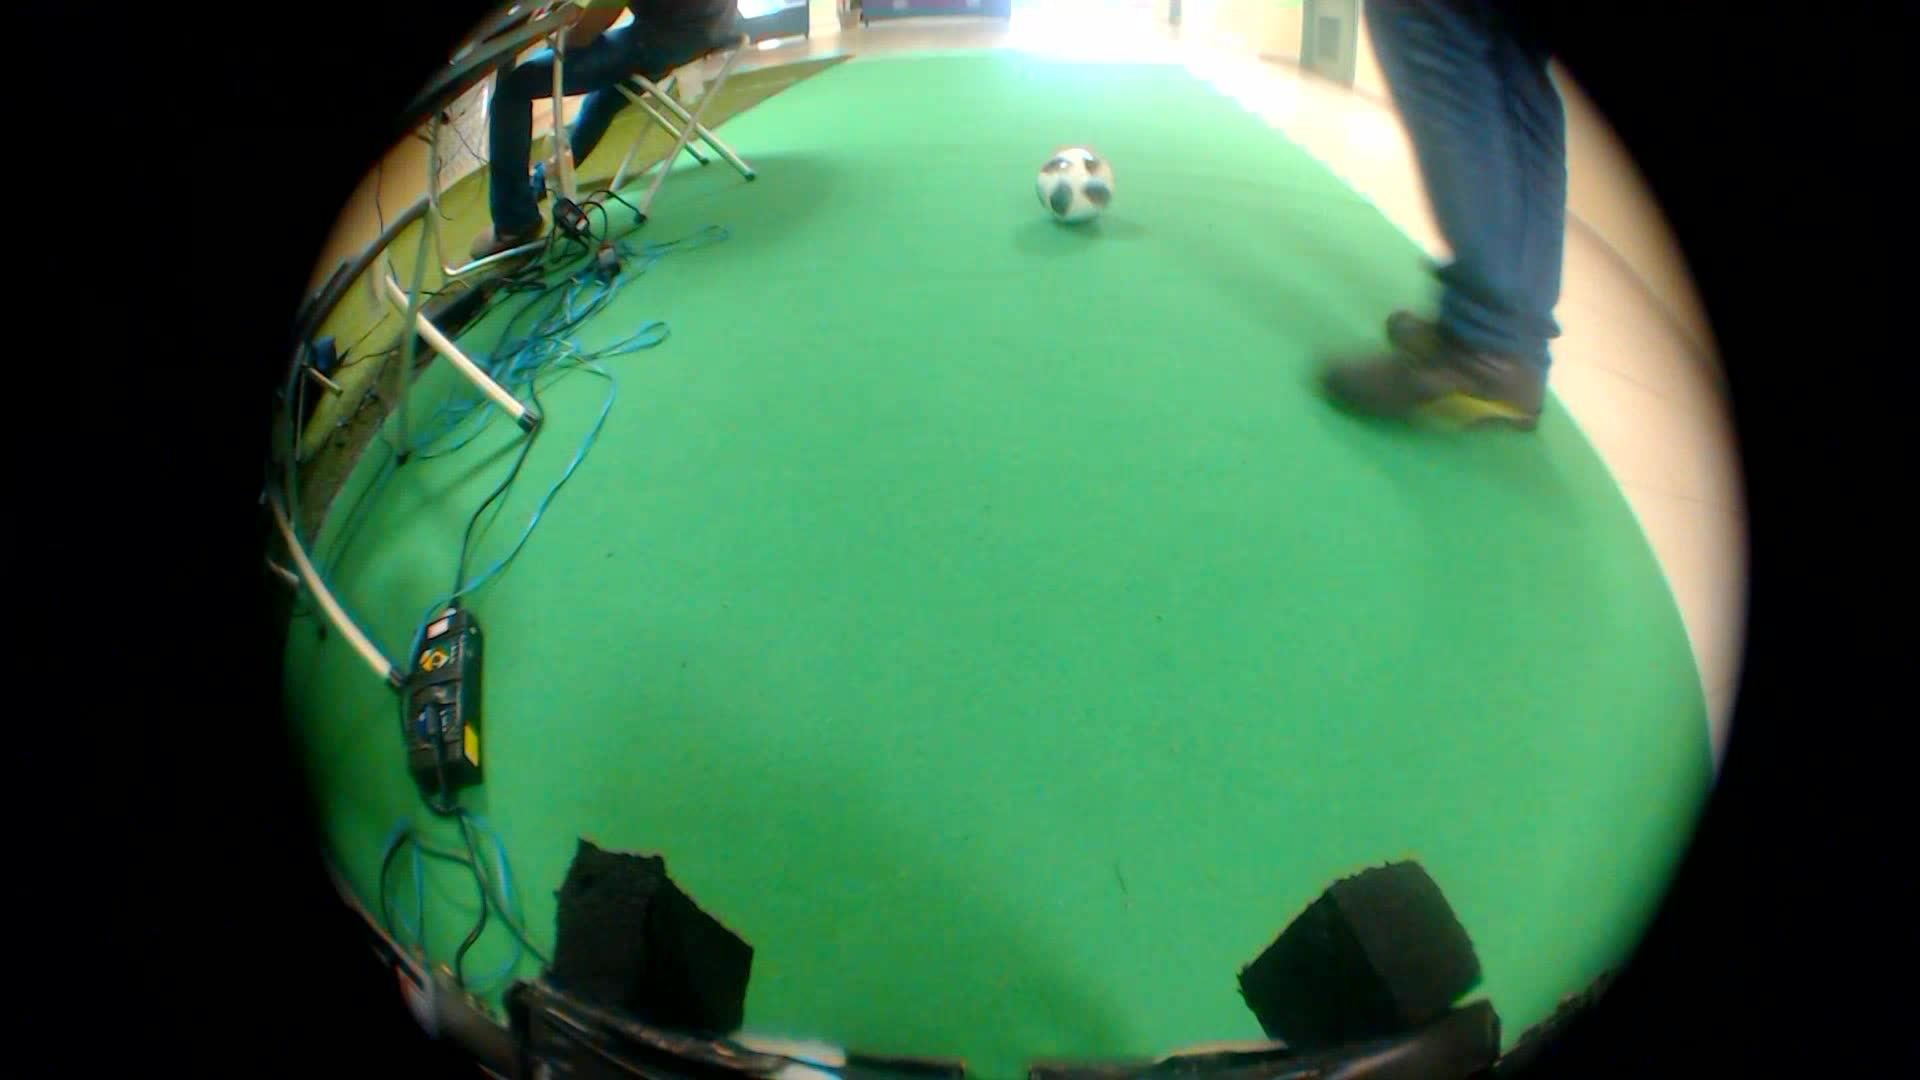ball: (1021, 131, 1124, 229)
